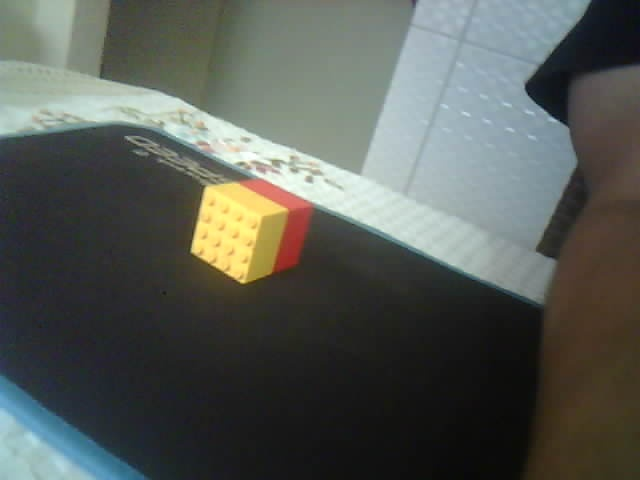lego: (189, 176, 315, 285)
